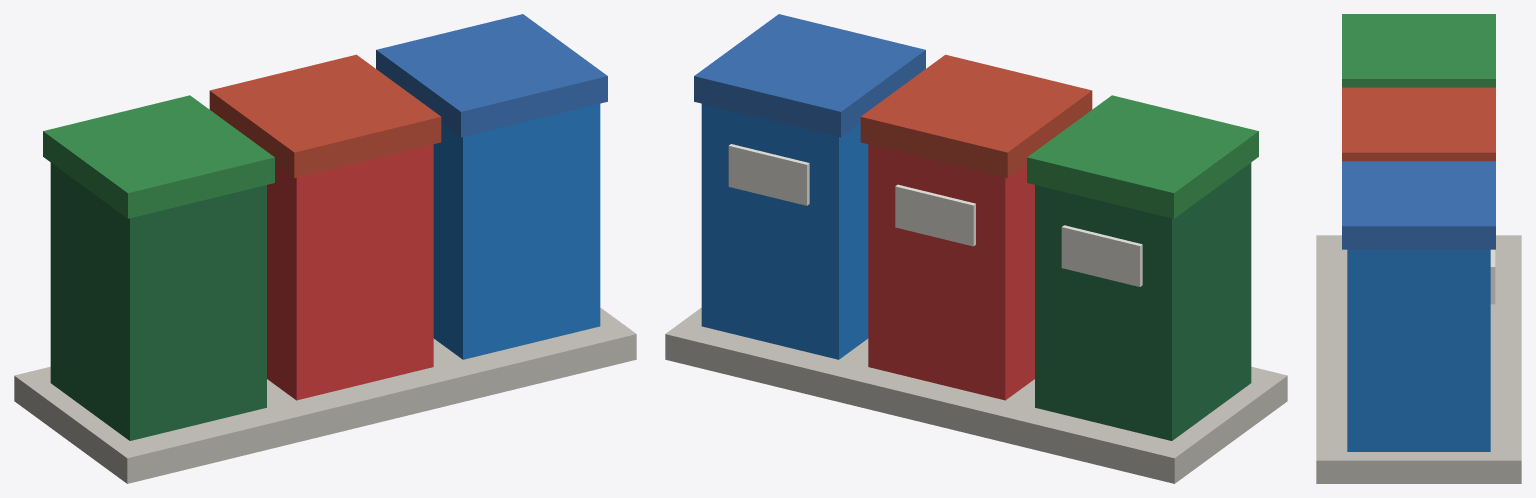
The model's file is lixeiras_coleta.glb.
3 renders of one model, left to right at view 1: azimuth 30°, elevation 25°; view 2: azimuth 150°, elevation 25°; view 3: azimuth 270°, elevation 25°, orthographic. The views are drawn at different scales.
Visible parts, largest first — view 1: corpo; view 2: corpo; view 3: corpo.
Part boxes in pixels (x1=…): corpo: x1=14, y1=14, x2=636, y2=483; corpo: x1=665, y1=14, x2=1287, y2=483; corpo: x1=1316, y1=14, x2=1521, y2=483.
Size of the model in its own units: 0.52 by 0.27 by 0.2.
